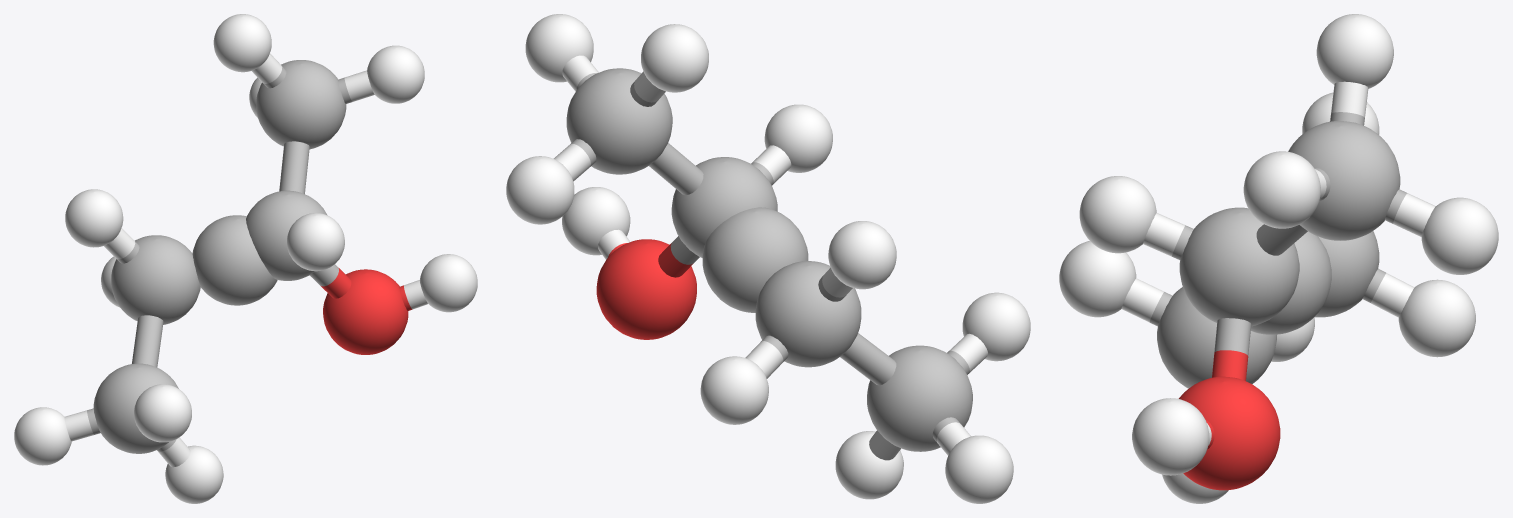
Rendered from S-2-propanol.glb.
The picture shows the model from 3 angles, left to right: view 1: azimuth 30°, elevation 25°; view 2: azimuth 150°, elevation 25°; view 3: azimuth 270°, elevation 25°; orthographic projection. The views are drawn at different scales.
Visible parts, largest first — view 1: Carbon_ball (×8), Hydrogen_ball (×11), Oxygen_ball (×2); view 2: Carbon_ball (×9), Hydrogen_ball (×11), Oxygen_ball (×2); view 3: Hydrogen_ball (×13), Carbon_ball (×8), Oxygen_ball (×2).
Boxes of the visible parts, <box> form: Carbon_ball (×8): <box>93,60,346,453</box>; Hydrogen_ball (×11): <box>14,14,477,503</box>; Oxygen_ball (×2): <box>323,269,408,354</box>; Carbon_ball (×9): <box>566,68,972,451</box>; Hydrogen_ball (×11): <box>506,14,1030,503</box>; Oxygen_ball (×2): <box>596,239,696,339</box>; Hydrogen_ball (×13): <box>1059,14,1498,503</box>; Carbon_ball (×8): <box>1157,121,1400,388</box>; Oxygen_ball (×2): <box>1178,376,1280,490</box>.
Bounding box in the file's own units: 5.27 × 5.03 × 3.63.
